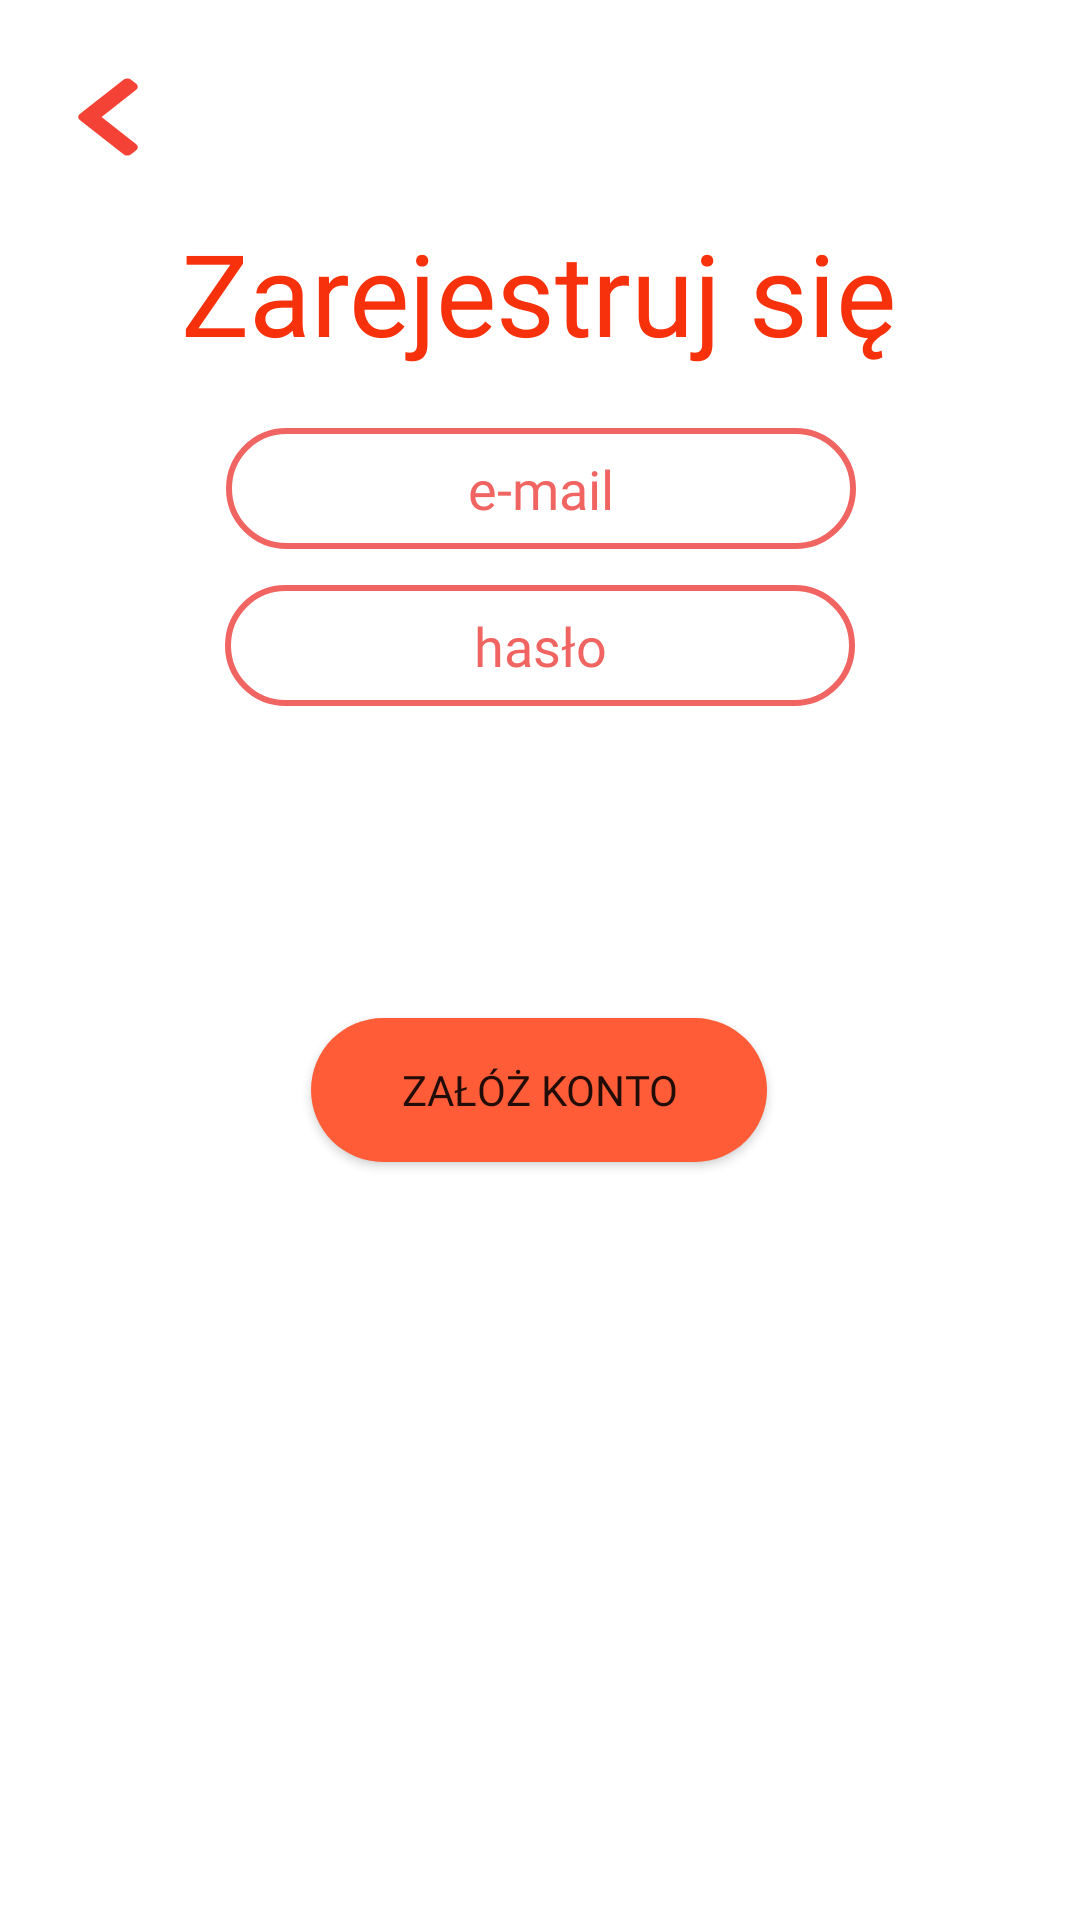

Named icons in this screenshot (1080x1920) and their centers, (x=x, y=y):
arrow back: (x=108, y=117)
